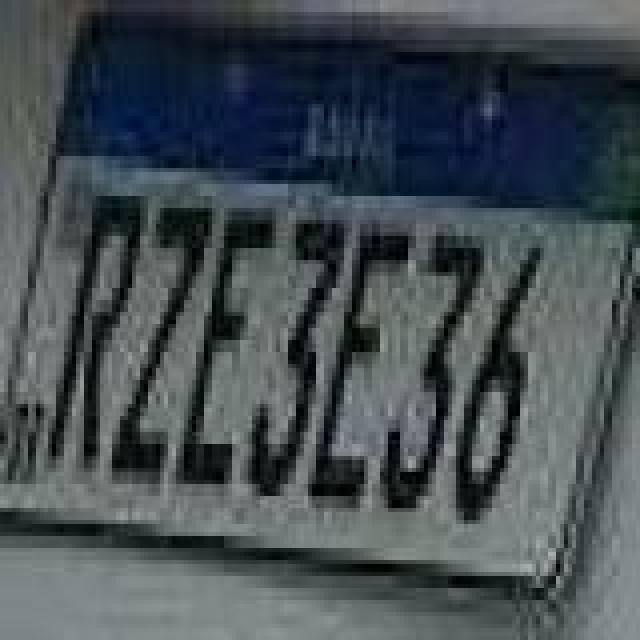3: (380, 228, 484, 516), (248, 216, 344, 504)
6: (454, 238, 546, 514)
E: (306, 224, 414, 512), (178, 200, 278, 488)
R: (50, 190, 142, 466)
Z: (106, 200, 214, 488)
